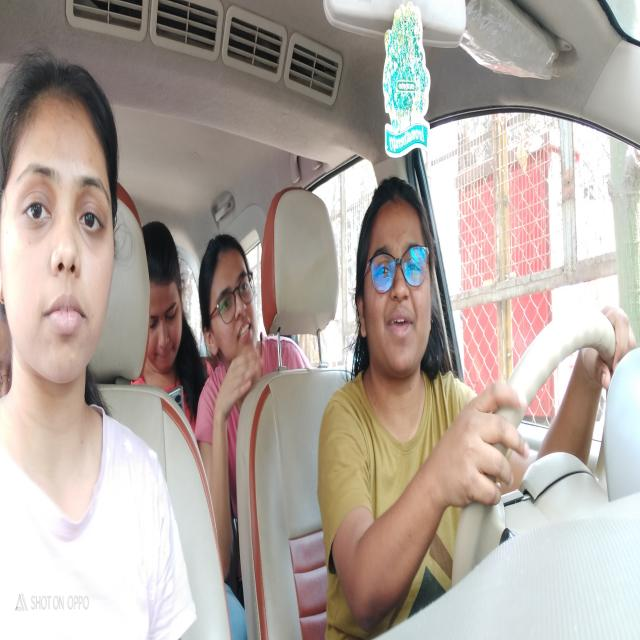person: (5, 95, 115, 392), (356, 208, 434, 362), (203, 237, 258, 353), (147, 261, 190, 370)
